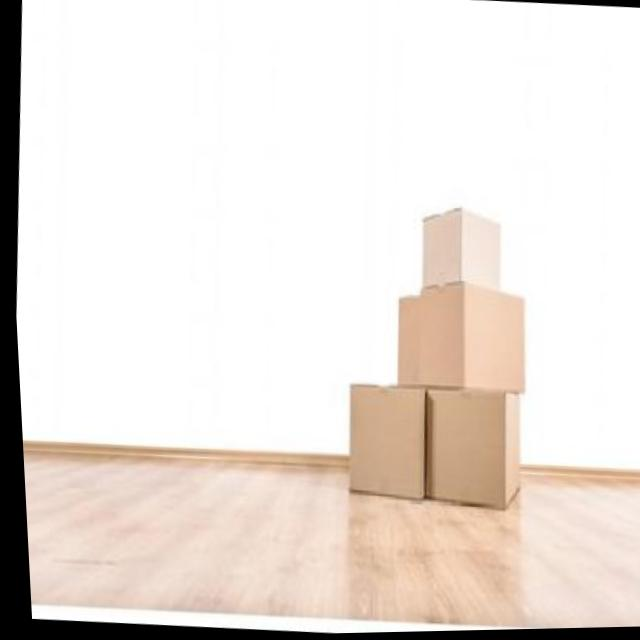box: (370, 270, 547, 401), (410, 384, 533, 516), (398, 183, 510, 312), (334, 376, 428, 516)
